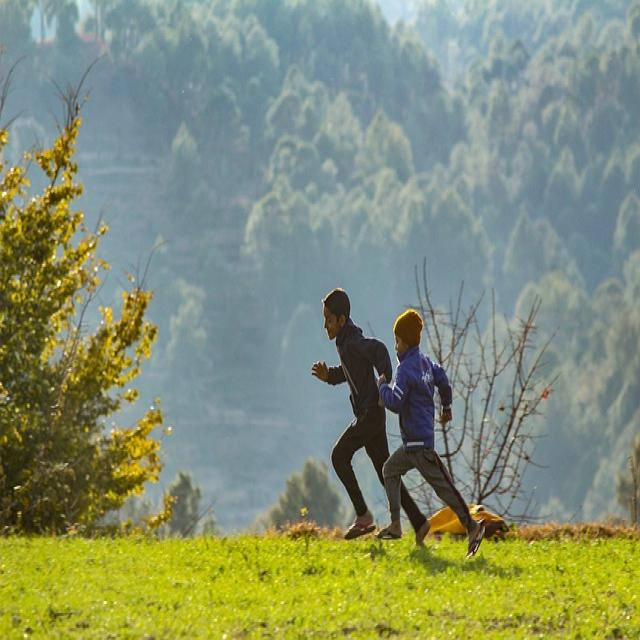Person: (311, 288, 430, 546), (377, 308, 485, 560)
